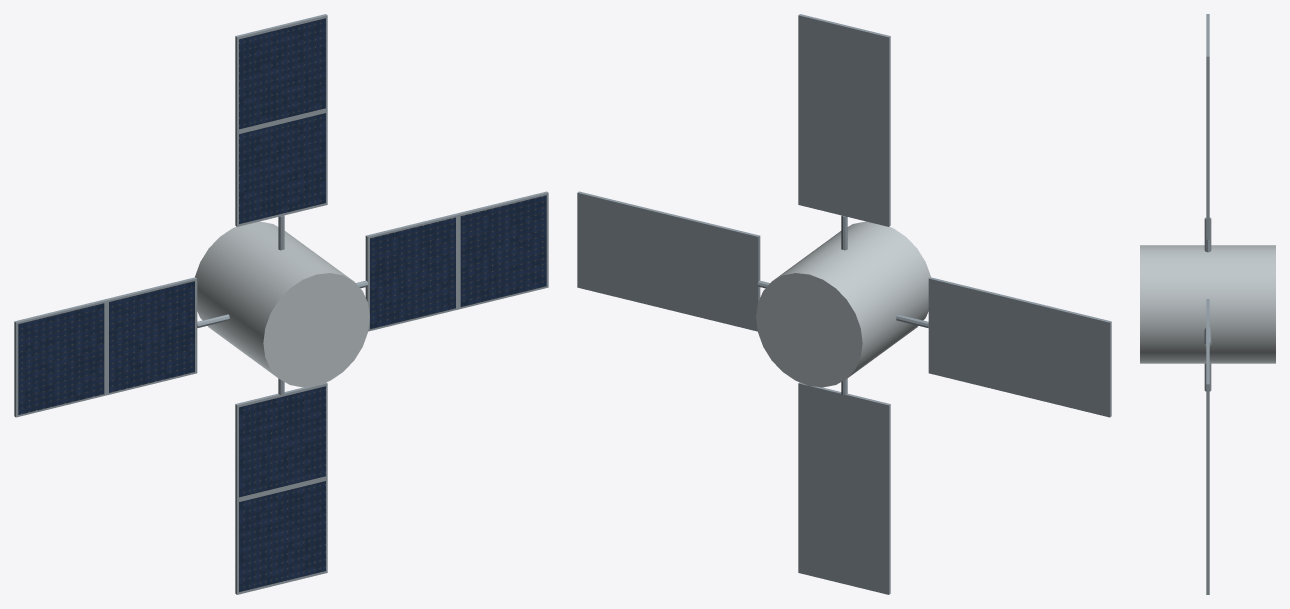
File: ref-d-2b-10064.glb
The picture shows the model from 3 angles, left to right: view 1: azimuth 30°, elevation 25°; view 2: azimuth 150°, elevation 25°; view 3: azimuth 270°, elevation 25°; orthographic projection. The views are drawn at different scales.
Visible parts, largest first — view 1: Photovoltaic laminates (×8), Spacecraft body, Array frame (×8); view 2: Array frame (×8), Spacecraft body; view 3: Spacecraft body, Array frame (×4), Solar array drive.
Part boxes in pixels (left/top/right/bottom): Photovoltaic laminates (×8): left=18, top=18, right=546, bottom=591; Spacecraft body: left=195, top=221, right=369, bottom=387; Array frame (×8): left=14, top=14, right=548, bottom=594; Array frame (×8): left=577, top=14, right=1111, bottom=594; Spacecraft body: left=756, top=221, right=930, bottom=387; Spacecraft body: left=1140, top=245, right=1275, bottom=363; Array frame (×4): left=1206, top=14, right=1209, bottom=594; Solar array drive: left=1204, top=217, right=1211, bottom=252.
Size of the model in its own units: 3.5 by 3.5 by 0.8.
3 materials, 1 textured.
